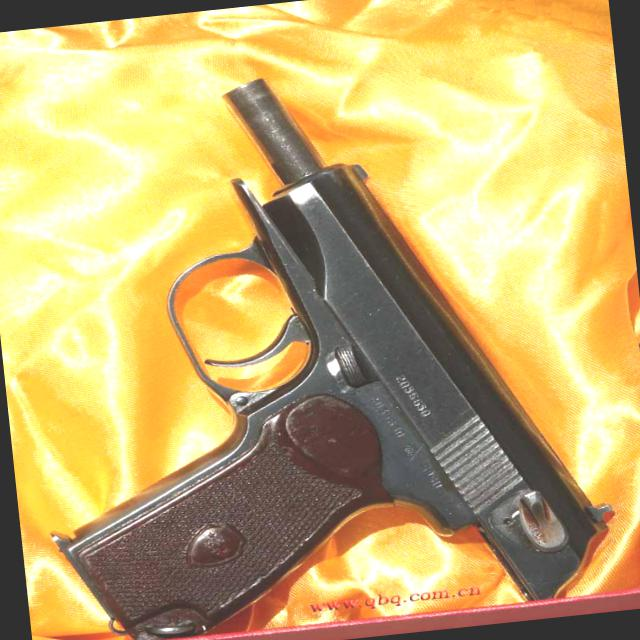handgun: (9, 42, 617, 639)
